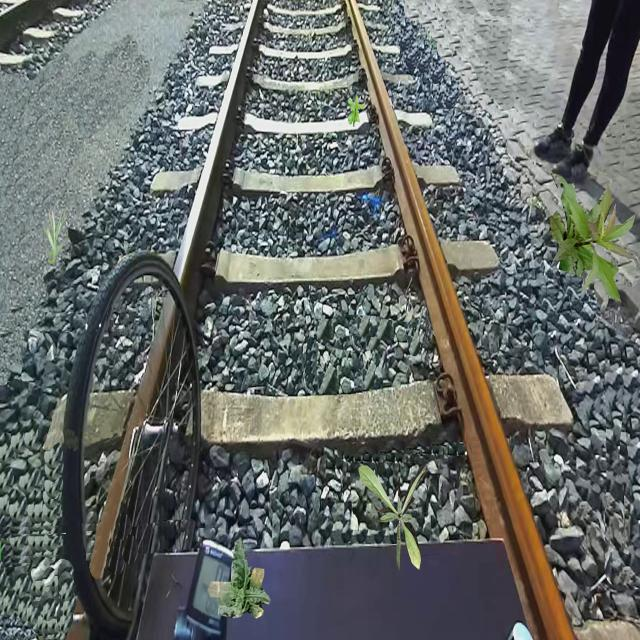Plant: (549, 173, 638, 303), (358, 463, 430, 571), (207, 536, 270, 619), (42, 208, 68, 264), (348, 95, 366, 127)
